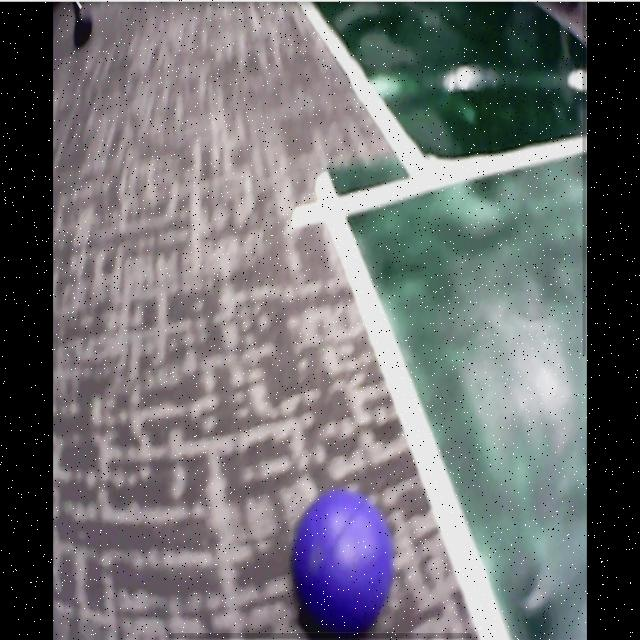ball: (294, 492, 393, 631)
